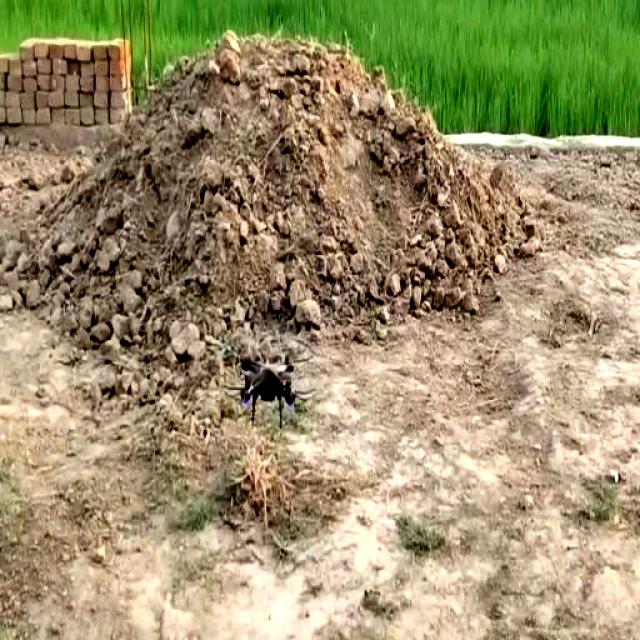bird: (229, 326, 301, 429)
